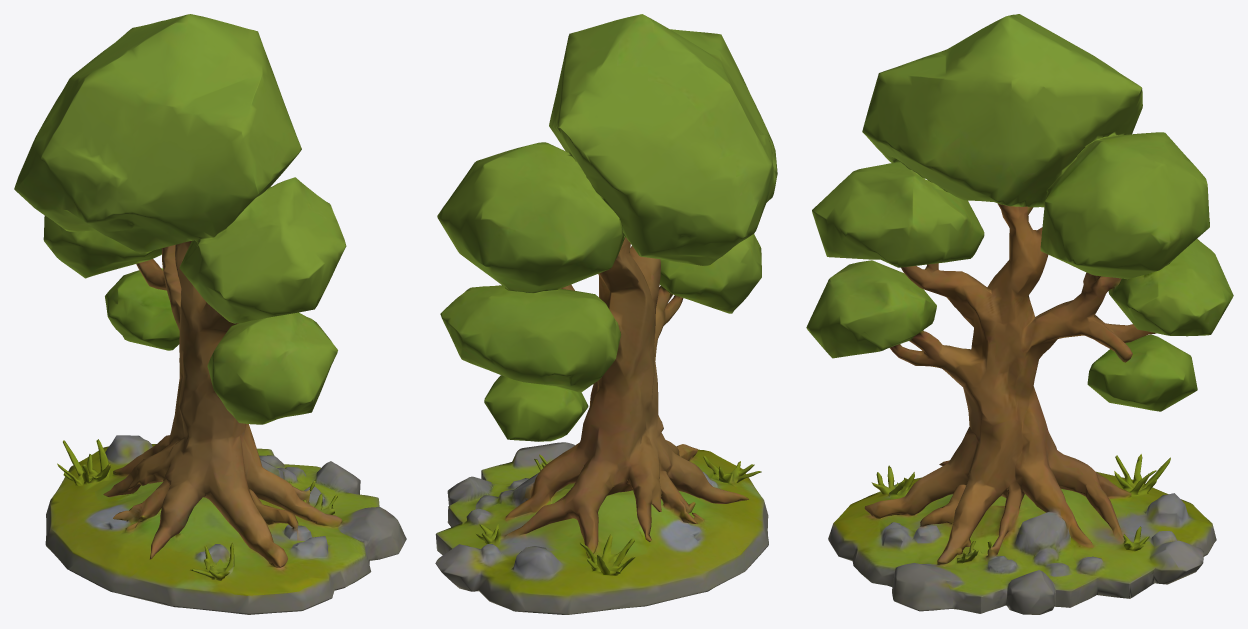
File: tree.glb
The picture shows the model from 3 angles, left to right: view 1: azimuth 30°, elevation 25°; view 2: azimuth 150°, elevation 25°; view 3: azimuth 270°, elevation 25°; orthographic projection. The views are drawn at different scales.
Visible parts, largest first — view 1: tripo_node_d10db8bc-a4a3-44c0-a10e-48bbf0d0c9e0; view 2: tripo_node_d10db8bc-a4a3-44c0-a10e-48bbf0d0c9e0; view 3: tripo_node_d10db8bc-a4a3-44c0-a10e-48bbf0d0c9e0.
Boxes of the visible parts, x1,y1,x2,y2 form: tripo_node_d10db8bc-a4a3-44c0-a10e-48bbf0d0c9e0: (14, 14, 406, 614); tripo_node_d10db8bc-a4a3-44c0-a10e-48bbf0d0c9e0: (435, 14, 777, 614); tripo_node_d10db8bc-a4a3-44c0-a10e-48bbf0d0c9e0: (806, 14, 1233, 614).
Size of the model in its own units: 0.6258 by 1 by 0.7495.
1 material, 1 textured.
